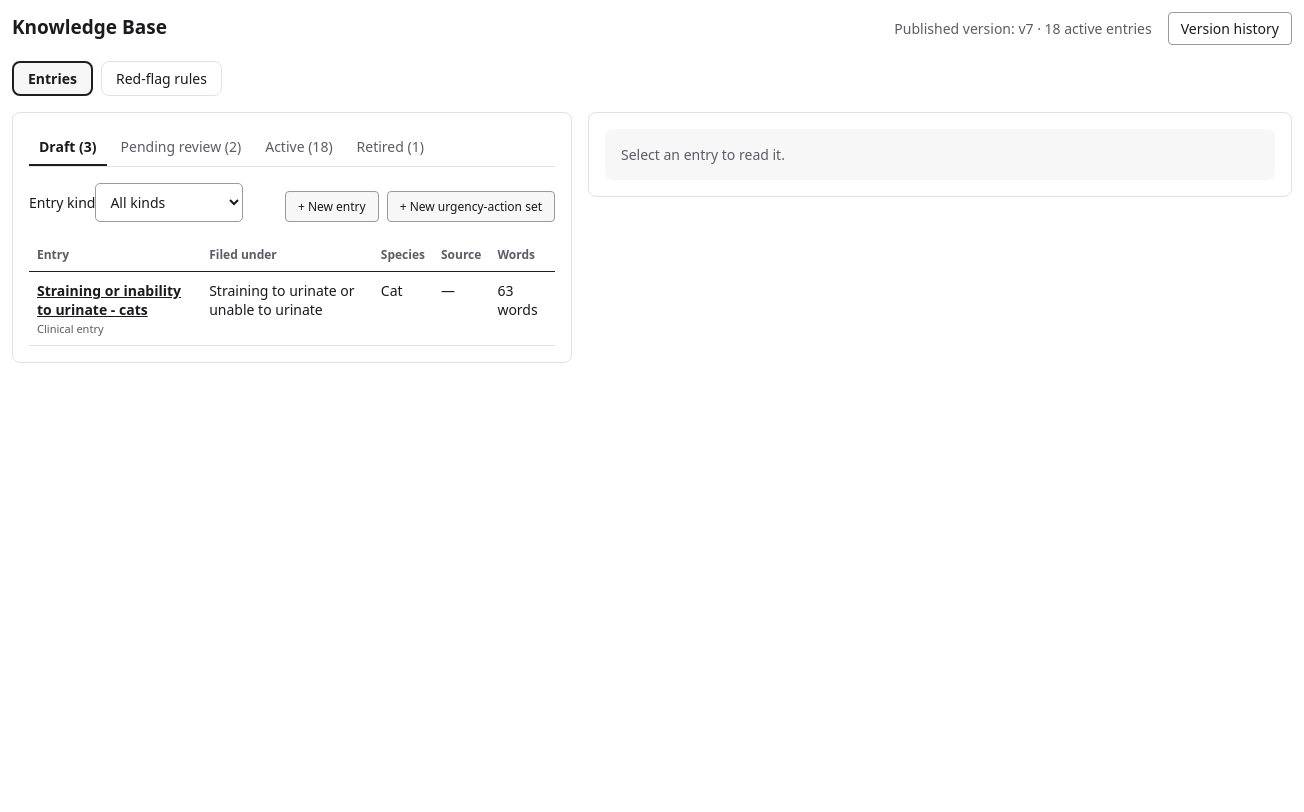
it: who may approve (BR-04, FR-52) › shows the server's reason when an incomplete draft cannot be submitted
Click the button "Straining or inability to urinate - cats" at x=115, y=300, box top-left (37, 281), bottom-right (193, 319)
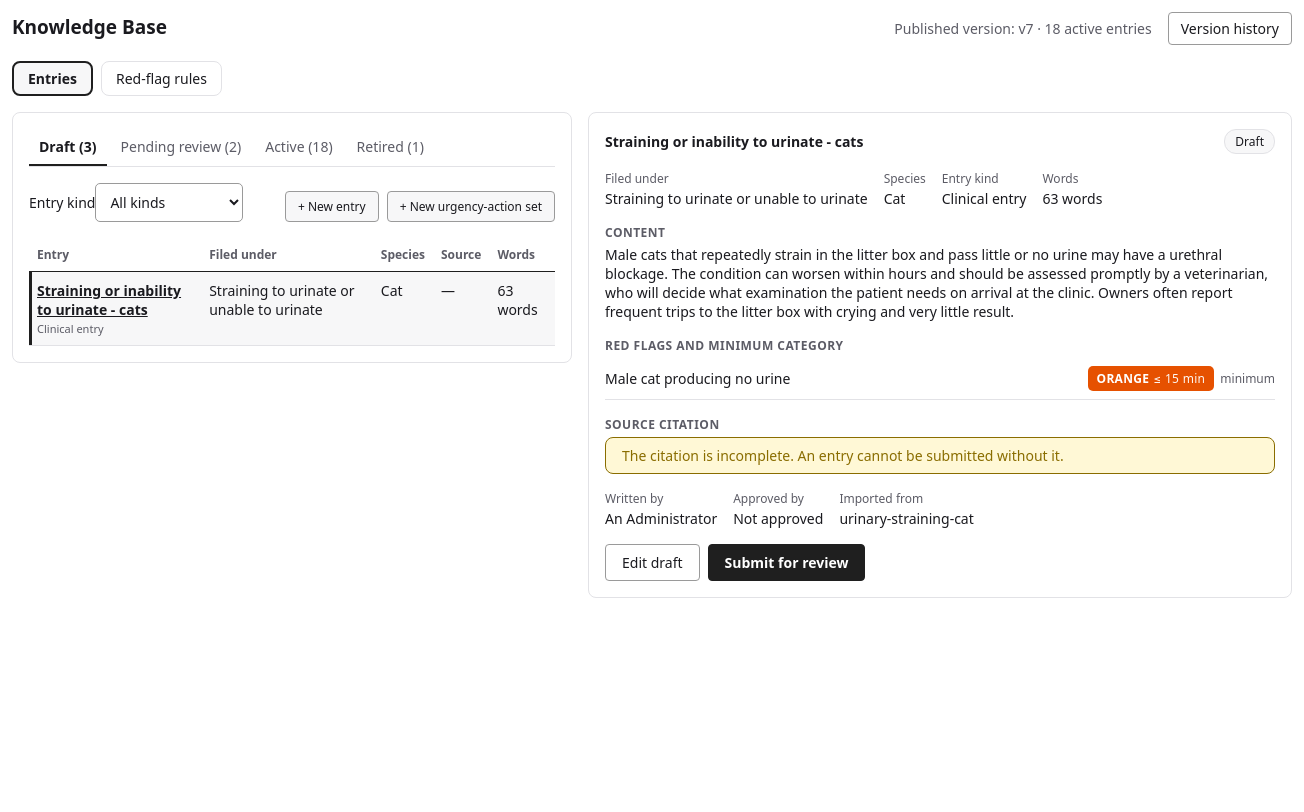
Click the button "Submit for review" at x=786, y=562, box top-left (708, 544), bottom-right (865, 581)
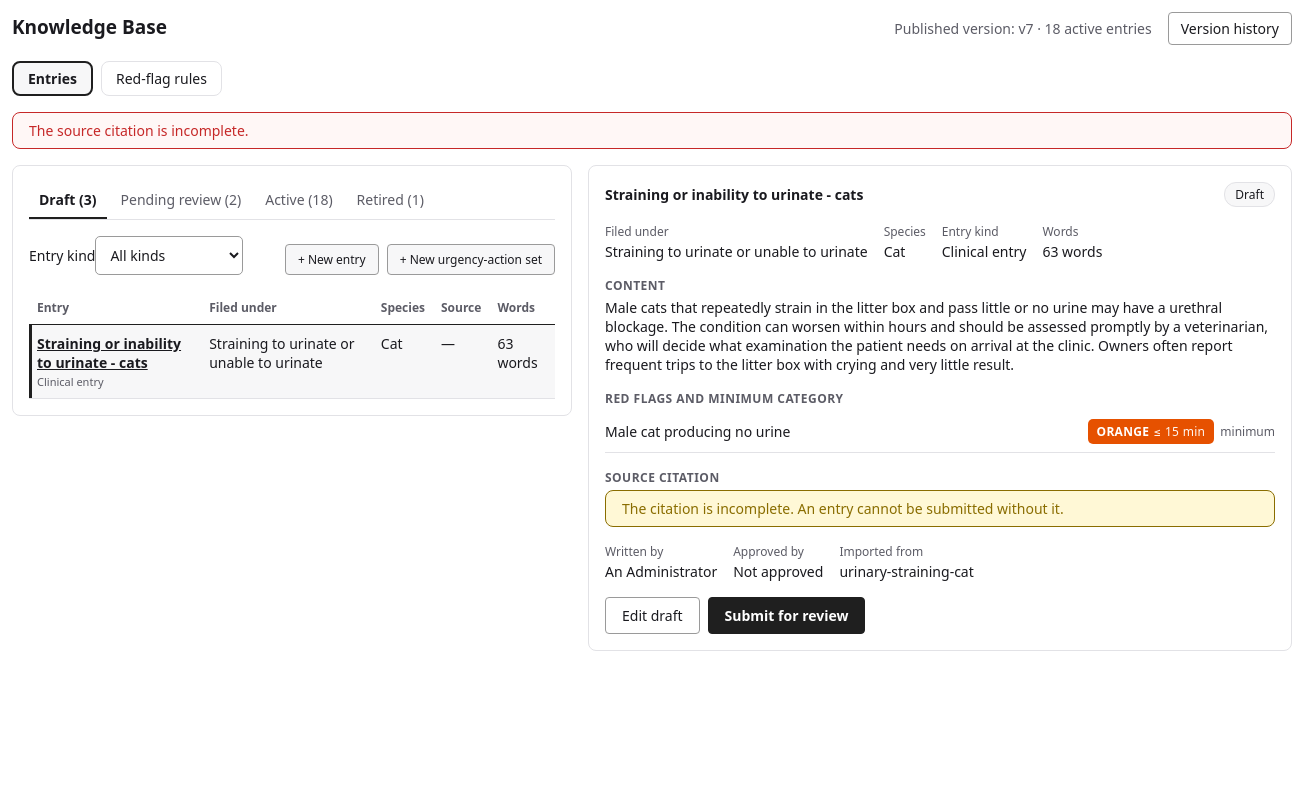
Expected: the text "The source citation is incomplete." is shown, top-left (12, 112), bottom-right (1292, 149)
